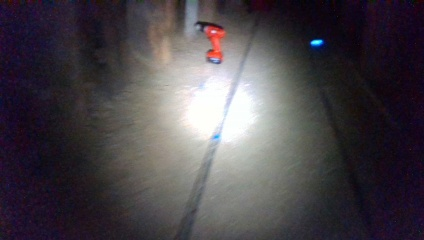drill: (194, 22, 226, 65)
